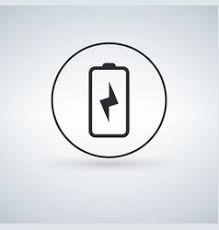charging sign: (77, 61, 136, 140)
